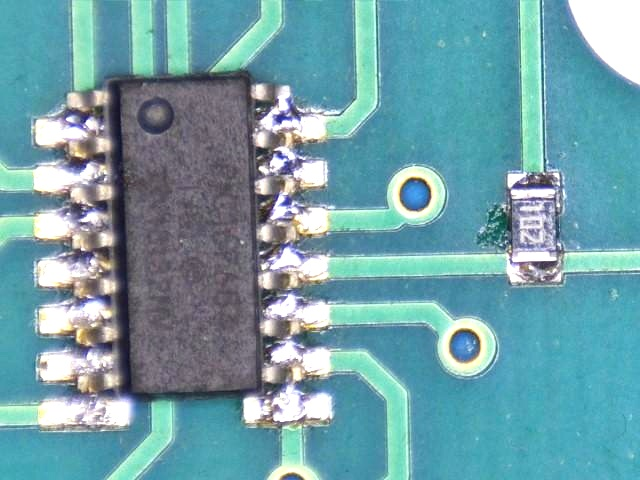pcb_defect: (33, 71, 330, 430), (33, 90, 128, 431), (242, 83, 331, 424)
